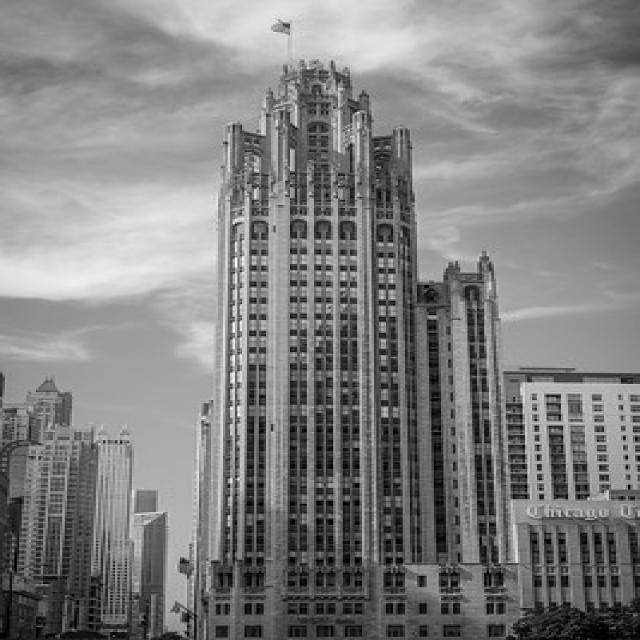building: (193, 51, 526, 640)
